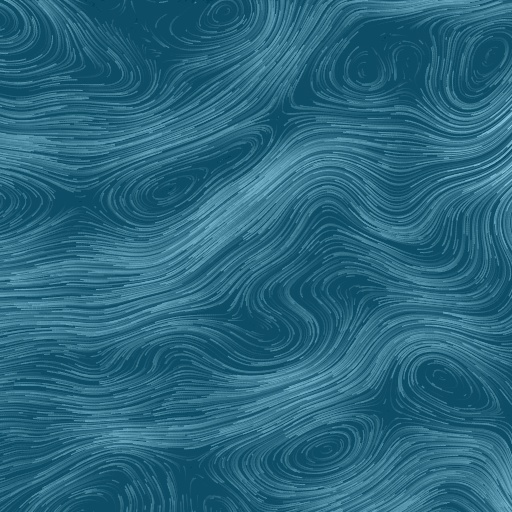eddy: (272, 413, 368, 487), (118, 157, 213, 221), (444, 25, 512, 105), (408, 351, 492, 414), (341, 47, 388, 93), (200, 2, 245, 28)
